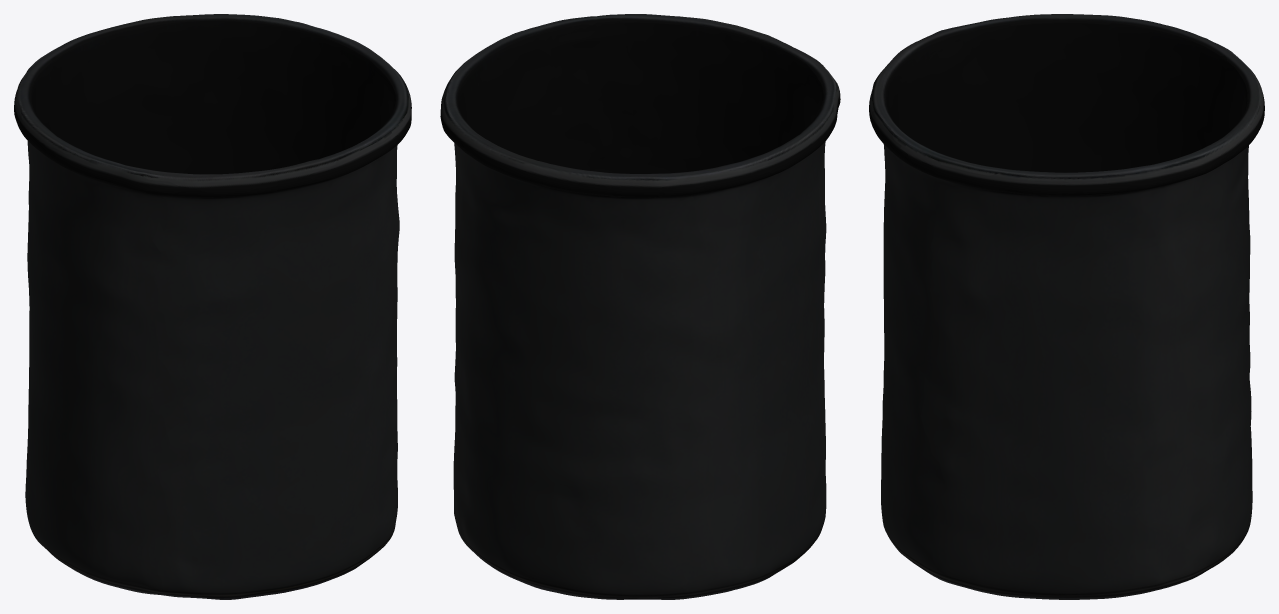
3 views of the same model, side by side, from view 1: azimuth 30°, elevation 25°; view 2: azimuth 150°, elevation 25°; view 3: azimuth 270°, elevation 25° (orthographic).
Parts seen in each view (by area): view 1: tmpfv87udpx.ply; view 2: tmpfv87udpx.ply; view 3: tmpfv87udpx.ply.
Part boxes in pixels (x1,y1,x2,y2): tmpfv87udpx.ply: [14, 14, 411, 599]; tmpfv87udpx.ply: [440, 14, 840, 599]; tmpfv87udpx.ply: [869, 14, 1264, 599].
Size of the model in its own units: 161 by 196 by 162.
1 material, 1 textured.
